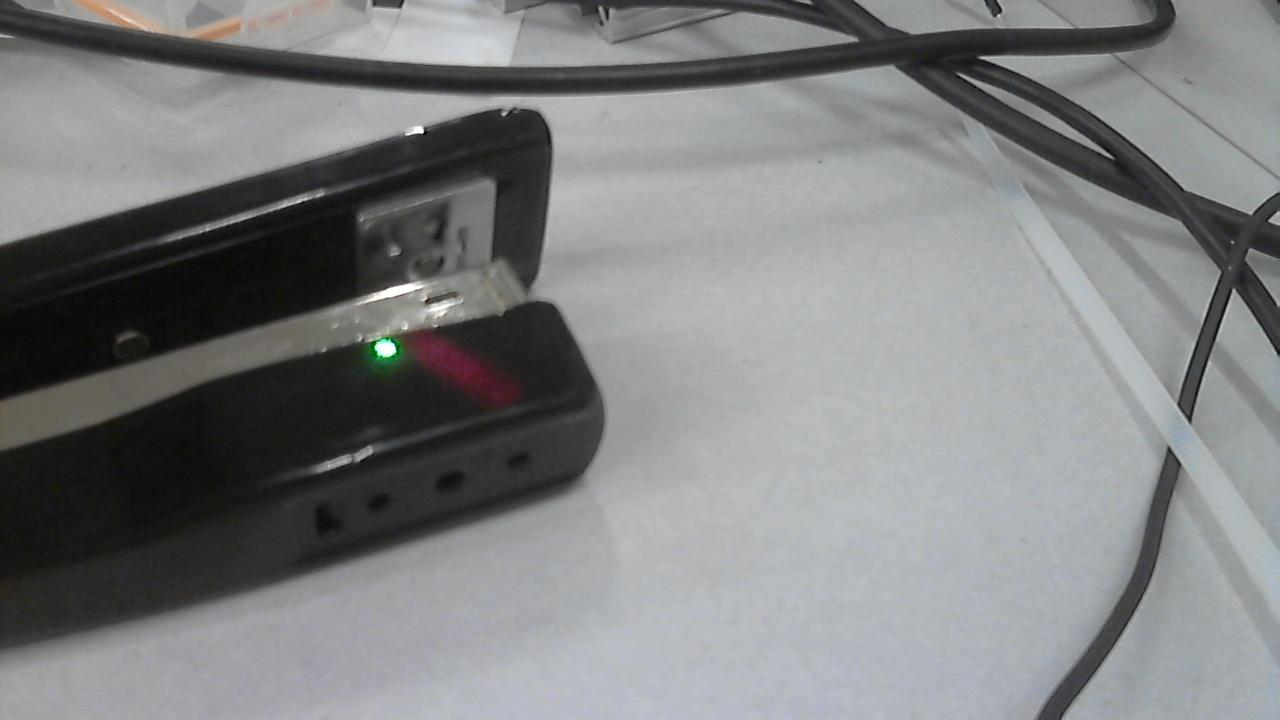object stapler - material metal - color black - Pdfname fduiadew: (363, 313, 536, 417)
